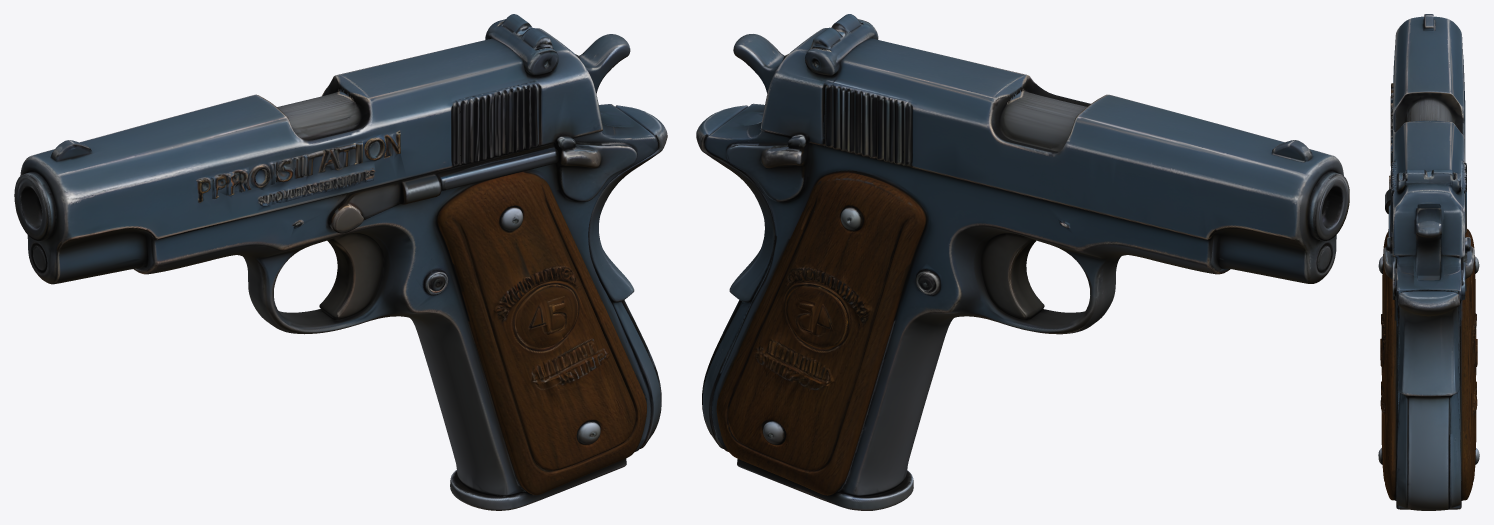
File: rifle.glb
3 renders of one model, left to right at view 1: azimuth 30°, elevation 25°; view 2: azimuth 150°, elevation 25°; view 3: azimuth 270°, elevation 25°, orthographic. The views are drawn at different scales.
Parts seen in each view (by area): view 1: node_0; view 2: node_0; view 3: node_0.
Part boxes in pixels (bbox=[...]): node_0: bbox=[14, 14, 667, 510]; node_0: bbox=[696, 14, 1349, 510]; node_0: bbox=[1378, 14, 1479, 510].
Bounding box in the file's own units: 1.03 × 0.7174 × 0.2021.
Materials: 1 (1 with a texture image).
